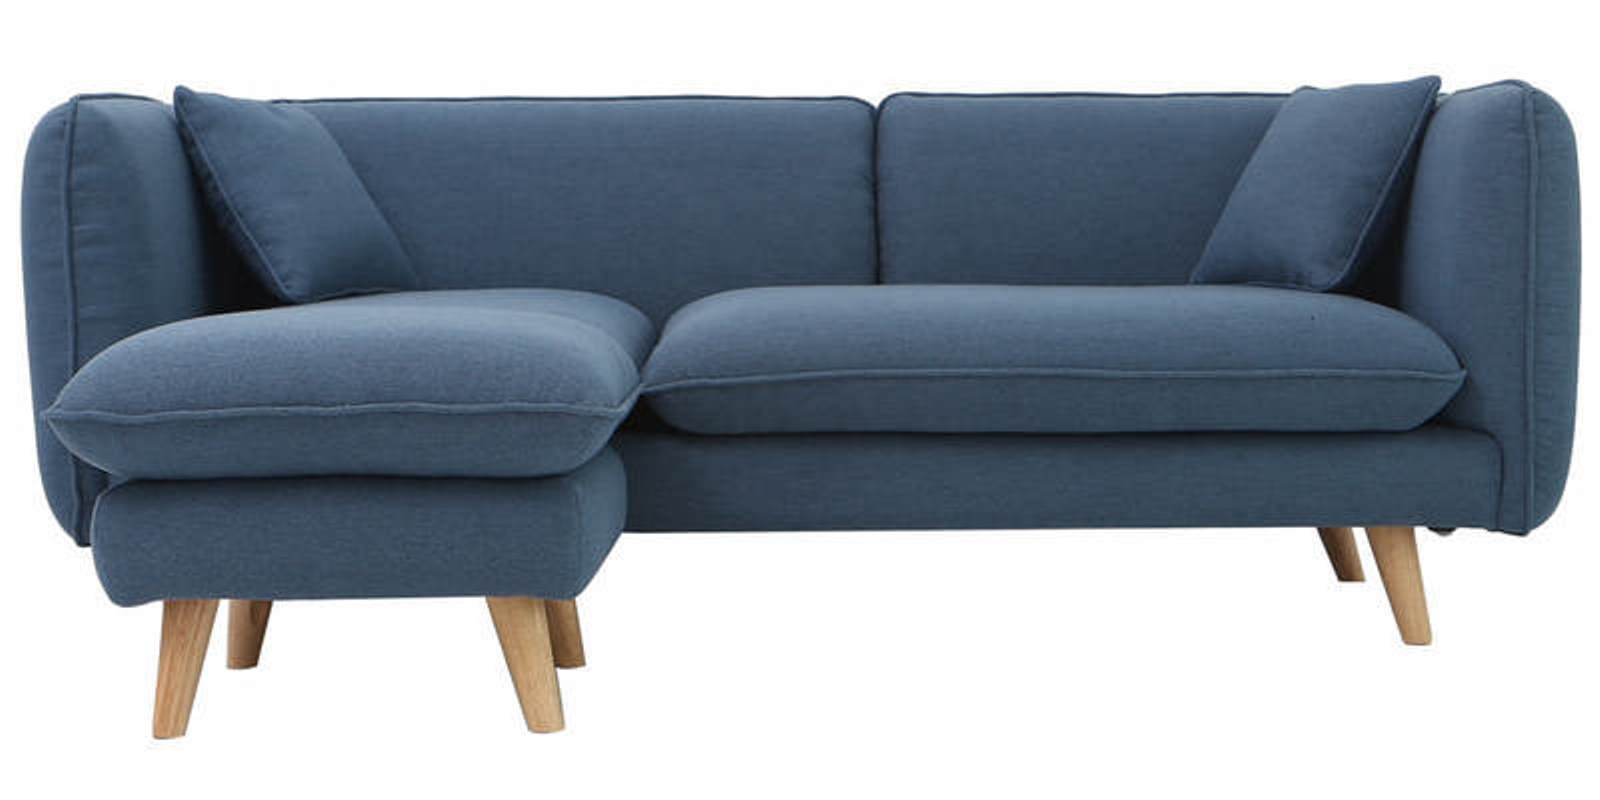Gloria Three Seater Sofa with Ottoman in Blue Colour by CasaCraft: (6, 68, 1599, 751)
